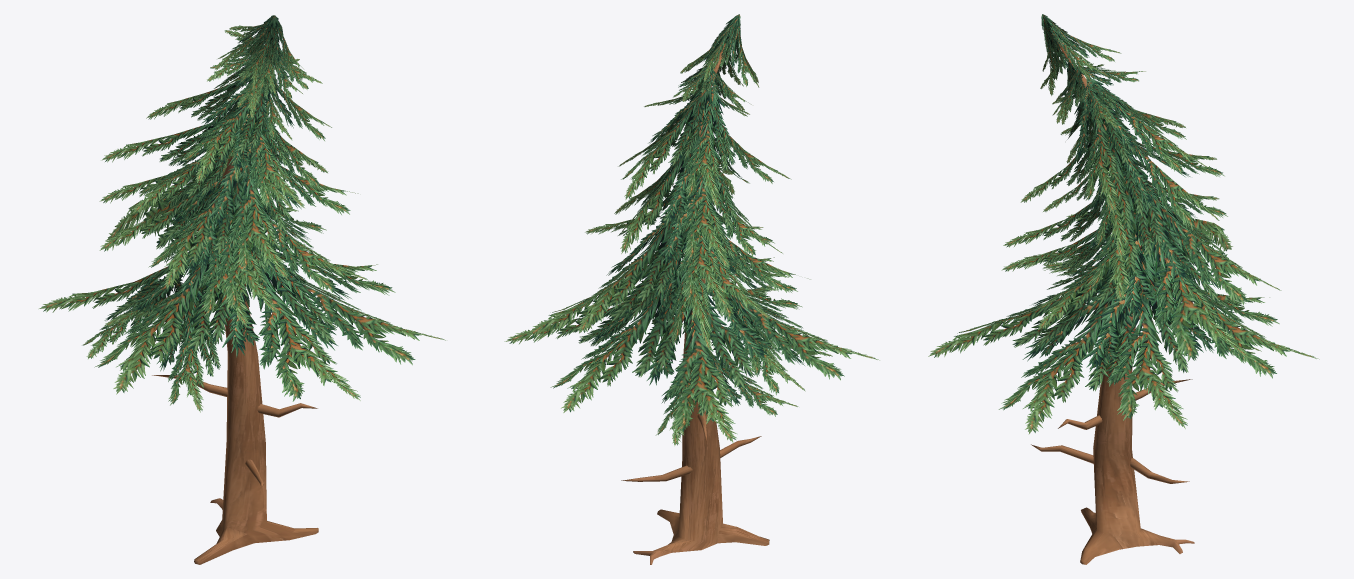
Rendered from PineTree_2.fbx.
The picture shows the model from 3 angles, left to right: view 1: azimuth 30°, elevation 25°; view 2: azimuth 150°, elevation 25°; view 3: azimuth 270°, elevation 25°; orthographic projection. The views are drawn at different scales.
Parts seen in each view (by area): view 1: PineTree_2.001; view 2: PineTree_2.001; view 3: PineTree_2.001.
Part boxes in pixels (left/top/right/bottom): PineTree_2.001: left=39, top=15, right=445, bottom=564; PineTree_2.001: left=504, top=14, right=879, bottom=564; PineTree_2.001: left=928, top=14, right=1319, bottom=564.
Bounding box in the file's own units: 10.65 × 14.53 × 10.47.
